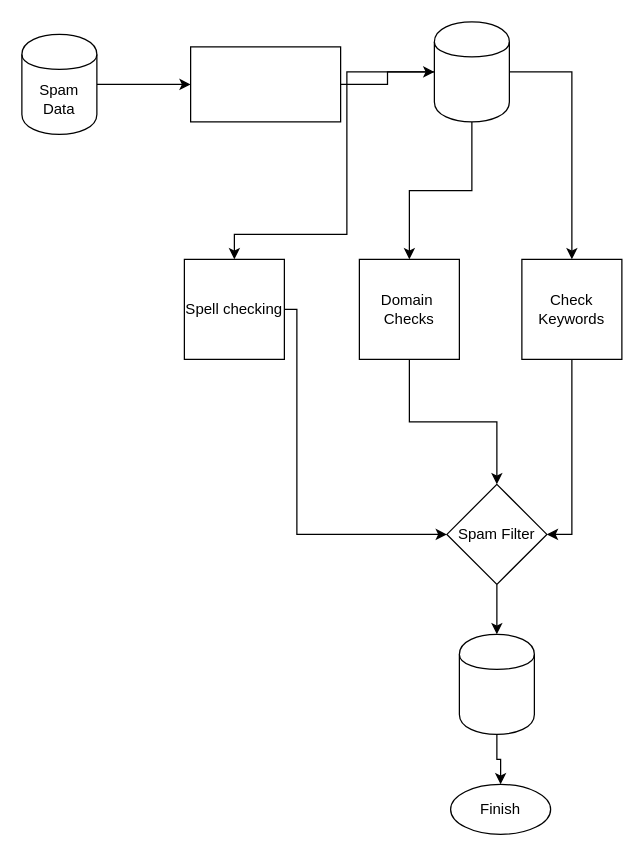
Some shapes in this 644 by 856 pixel diagram are drawn without their labels. The shapes that lost their labels are listed below. From the top down, each one's box as (x1, y1, x2, y2) in pixels, then its label:
(189, 46, 341, 122): Naive Bayes
(433, 21, 509, 122): Classified Spam
(458, 633, 534, 734): Output spam
